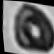correct: (8, 1, 54, 54)
